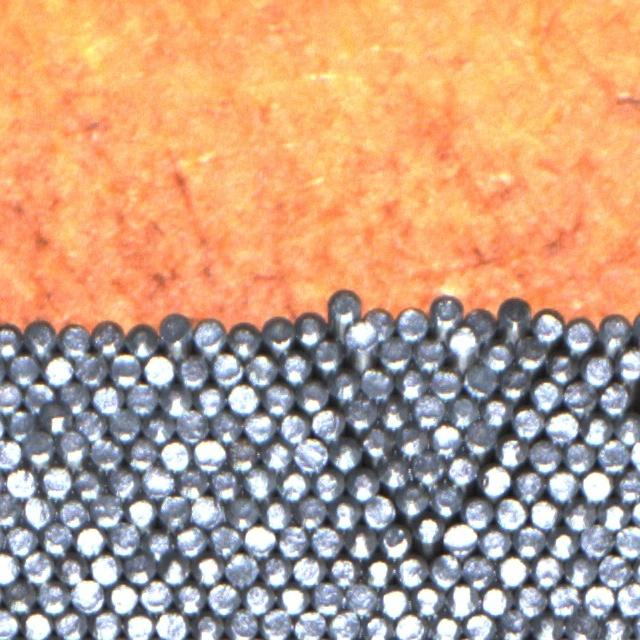tool: (429, 298, 463, 334), (395, 306, 429, 341), (546, 409, 580, 444), (396, 483, 430, 518), (89, 436, 123, 471), (410, 451, 444, 486), (327, 291, 361, 326), (362, 304, 395, 340), (495, 553, 529, 587), (142, 352, 176, 386), (344, 395, 378, 429), (243, 353, 277, 387), (596, 553, 630, 587), (71, 578, 105, 612), (344, 582, 378, 616), (378, 335, 412, 369), (596, 317, 630, 351), (329, 437, 363, 471), (159, 321, 193, 355), (193, 319, 226, 354), (431, 482, 464, 517), (496, 306, 529, 341), (262, 317, 294, 353), (394, 555, 428, 588), (90, 494, 124, 527), (207, 580, 240, 614), (242, 523, 276, 556), (546, 351, 580, 384), (294, 494, 327, 528), (428, 554, 462, 587), (379, 396, 412, 430), (225, 552, 258, 586), (23, 432, 56, 466), (379, 524, 412, 558), (227, 495, 260, 529), (291, 553, 325, 586), (54, 553, 88, 586), (361, 494, 394, 528), (106, 580, 139, 614), (310, 524, 343, 558), (74, 351, 108, 384), (294, 437, 327, 471), (91, 321, 124, 355), (562, 440, 596, 473), (261, 381, 294, 415), (361, 424, 394, 458), (311, 580, 344, 614), (360, 366, 394, 399), (412, 338, 445, 372), (24, 320, 56, 355), (531, 554, 564, 587), (227, 381, 260, 414), (126, 380, 159, 413), (4, 522, 37, 555), (478, 526, 511, 559), (447, 394, 480, 427), (494, 496, 527, 529), (41, 353, 74, 386), (177, 355, 210, 388), (328, 555, 361, 588), (345, 527, 378, 560), (429, 422, 462, 455), (279, 351, 312, 384), (530, 378, 563, 411), (21, 550, 54, 583), (107, 521, 140, 554), (580, 468, 613, 501), (311, 406, 344, 439), (243, 466, 276, 499), (56, 496, 89, 529), (461, 554, 494, 587), (157, 494, 190, 527), (396, 425, 429, 458), (193, 438, 226, 471), (512, 468, 545, 501), (176, 467, 209, 500), (462, 421, 495, 454), (563, 379, 596, 412), (36, 581, 69, 614), (161, 385, 194, 418), (480, 582, 512, 616), (446, 582, 478, 616), (54, 608, 88, 640), (276, 583, 310, 615), (57, 430, 89, 464), (294, 380, 328, 412), (106, 467, 140, 499), (39, 466, 73, 498), (8, 352, 40, 386), (208, 523, 242, 555), (4, 466, 38, 498), (228, 324, 260, 358), (211, 352, 243, 386), (564, 554, 596, 588), (58, 324, 90, 358), (412, 517, 444, 551), (40, 520, 72, 553), (529, 497, 561, 530), (582, 582, 614, 615), (598, 382, 630, 415), (546, 468, 578, 501), (175, 524, 207, 557), (277, 524, 309, 557), (176, 409, 208, 442), (191, 494, 224, 526), (329, 497, 361, 530), (548, 582, 580, 615), (227, 608, 260, 640), (278, 410, 310, 443), (91, 382, 124, 414), (580, 523, 612, 556), (244, 409, 276, 442), (446, 453, 478, 486), (480, 395, 512, 428), (428, 366, 461, 398), (76, 408, 108, 441), (22, 494, 54, 527), (277, 468, 310, 500), (74, 523, 106, 556), (108, 408, 141, 440), (242, 582, 274, 615), (191, 554, 224, 586), (141, 466, 174, 498), (328, 369, 360, 402), (123, 553, 156, 585), (380, 456, 412, 489), (142, 412, 175, 444), (126, 436, 158, 469), (563, 499, 596, 531), (226, 438, 259, 470), (160, 438, 192, 471), (347, 468, 380, 500), (528, 440, 561, 472), (109, 353, 141, 386), (74, 468, 106, 501), (4, 409, 37, 441), (514, 583, 546, 616), (479, 464, 512, 496), (513, 524, 545, 557), (362, 555, 394, 588), (531, 310, 564, 342), (40, 401, 73, 433), (581, 415, 614, 447), (293, 609, 327, 640), (496, 609, 530, 640), (140, 580, 172, 612), (444, 522, 476, 554), (379, 585, 411, 617), (581, 354, 613, 386), (89, 552, 121, 584), (547, 528, 579, 560), (194, 383, 226, 415), (210, 411, 242, 443), (260, 608, 292, 640), (396, 367, 428, 399), (4, 581, 36, 613), (260, 498, 292, 530), (412, 584, 444, 616), (512, 406, 544, 438), (598, 440, 630, 472), (598, 499, 630, 531), (496, 435, 528, 467), (413, 394, 445, 426), (462, 496, 494, 528), (160, 555, 192, 587), (498, 367, 530, 399), (210, 468, 242, 500), (312, 468, 344, 500), (463, 365, 495, 397), (447, 327, 479, 359), (310, 340, 342, 372), (261, 440, 293, 472), (126, 328, 158, 360), (513, 337, 545, 369), (464, 298, 496, 330), (155, 609, 188, 640), (20, 609, 53, 640), (329, 609, 362, 640), (141, 528, 174, 559), (563, 319, 594, 352), (260, 554, 291, 587), (294, 316, 327, 347), (190, 610, 224, 640), (175, 582, 206, 614), (125, 495, 156, 527), (89, 609, 121, 640), (481, 341, 513, 372), (24, 378, 56, 409), (58, 380, 90, 411), (344, 318, 376, 349), (471, 317, 503, 348), (123, 610, 155, 640), (463, 610, 495, 640), (346, 342, 378, 372), (394, 612, 426, 640), (566, 612, 598, 640), (599, 613, 632, 640), (614, 468, 640, 502), (428, 614, 461, 640), (531, 614, 564, 640), (614, 525, 640, 558), (615, 580, 640, 614), (362, 615, 394, 640), (615, 348, 640, 380), (615, 414, 640, 446), (0, 326, 23, 359), (0, 380, 23, 412), (0, 436, 22, 469), (0, 492, 20, 526), (0, 550, 19, 584), (0, 608, 18, 640)
